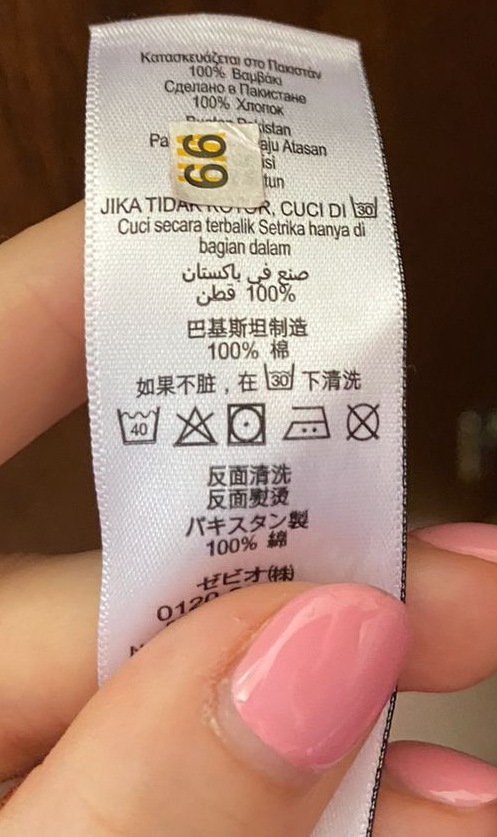do_not_bleach: (169, 401, 219, 450)
do_not_dry_clean: (344, 399, 385, 444)
ironing_at_med_temp: (280, 400, 333, 443)
tumble_drying_low_temps: (224, 399, 269, 449)
wash_at_or_below_30: (261, 359, 300, 394), (348, 192, 381, 223)
wash_at_or_below_40: (115, 402, 165, 450)
